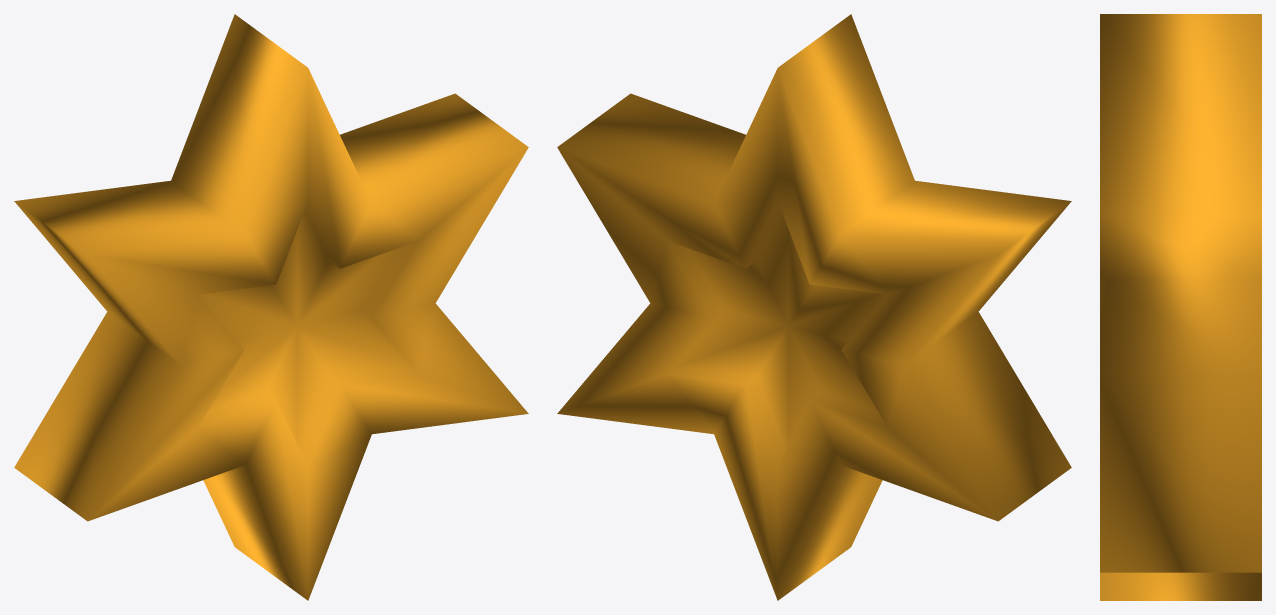
File: 02-STAR-06.fbx
3 views of the same model, side by side, from view 1: azimuth 30°, elevation 25°; view 2: azimuth 150°, elevation 25°; view 3: azimuth 270°, elevation 25° (orthographic). The views are drawn at different scales.
Visible parts, largest first — view 1: 02-STAR-06; view 2: 02-STAR-06; view 3: 02-STAR-06.
Part boxes in pixels (x1,y1,x2,y2): 02-STAR-06: (14,14,528,600); 02-STAR-06: (557,14,1071,600); 02-STAR-06: (1100,14,1261,600).
Bounding box in the file's own units: 346 × 400 × 100.
